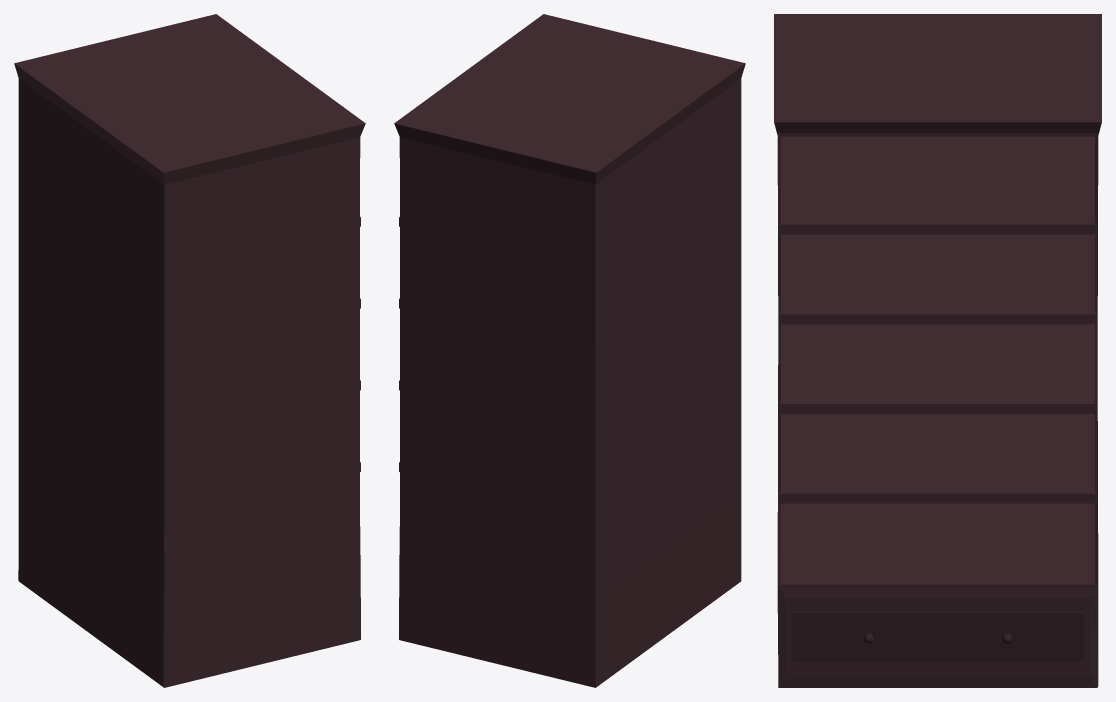
File: shelf2.glb
3 renders of one model, left to right at view 1: azimuth 30°, elevation 25°; view 2: azimuth 150°, elevation 25°; view 3: azimuth 270°, elevation 25°, orthographic. The views are drawn at different scales.
Visible parts, largest first — view 1: Shelf; view 2: Shelf; view 3: Shelf, Drawer.
Boxes of the visible parts, <box> form: Shelf: <box>14,14,365,687</box>; Shelf: <box>394,14,745,687</box>; Shelf: <box>774,14,1101,687</box>; Drawer: <box>792,612,1083,661</box>.
Size of the model in its own units: 4.95 by 11.6 by 6.08.
